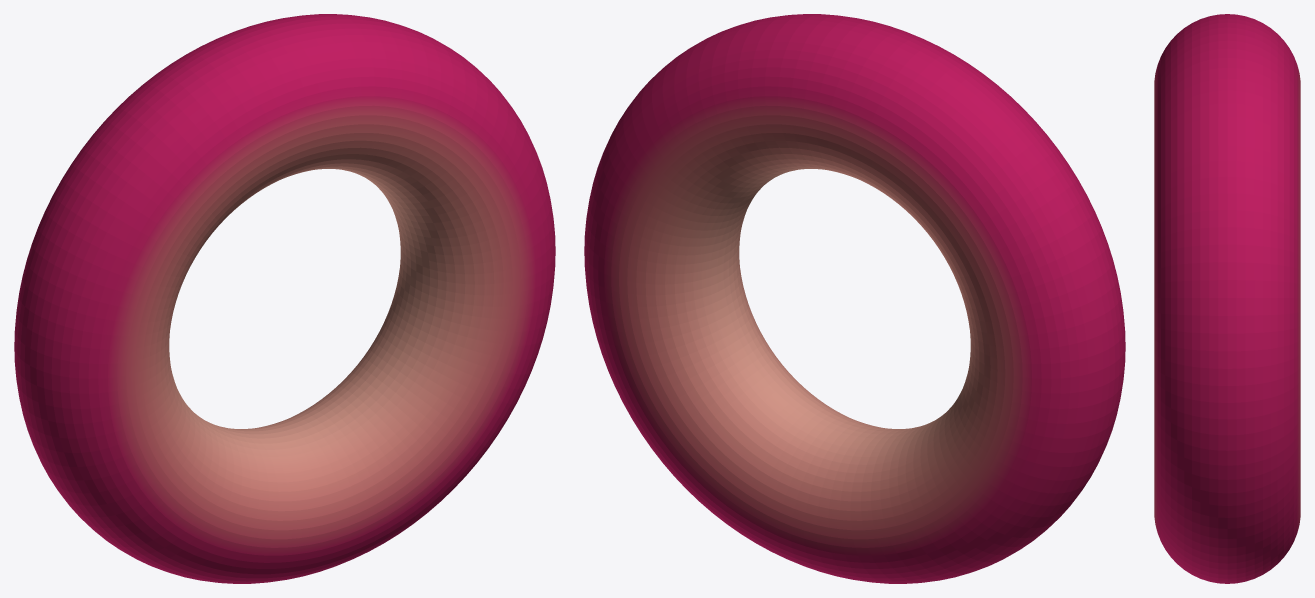
3 views of the same model, side by side, from view 1: azimuth 30°, elevation 25°; view 2: azimuth 150°, elevation 25°; view 3: azimuth 270°, elevation 25° (orthographic). The views are drawn at different scales.
Visible parts, largest first — view 1: world; view 2: world; view 3: world.
Part boxes in pixels (x1,y1,x2,y2): world: (14,14,555,583); world: (584,14,1125,583); world: (1154,14,1300,583).
Size of the model in its own units: 28.44 by 28.44 by 7.32.
